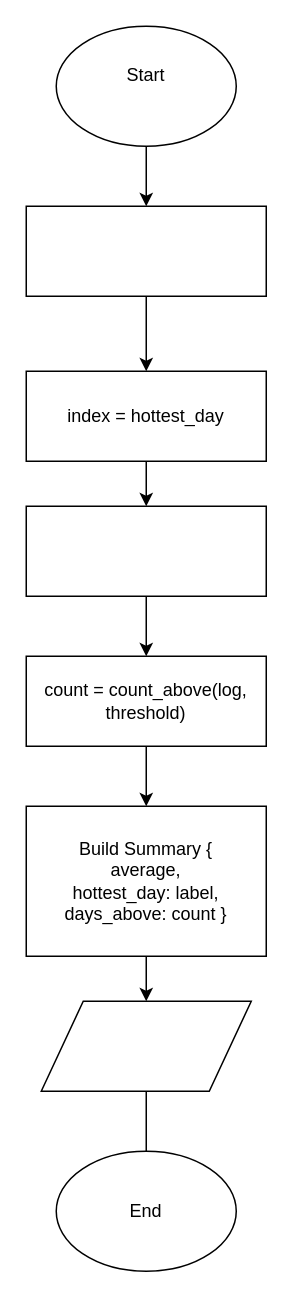
Some shapes in this 293 by 1298 pixel diagram are drawn without their labels. Here are the shapes that lost their labels. From the top down, the centre of each, then its label:
At point (145, 250): "average = average_temp".
At point (145, 550): "label = log[index].day.clone()".
At point (145, 1045): "Return Summary".
